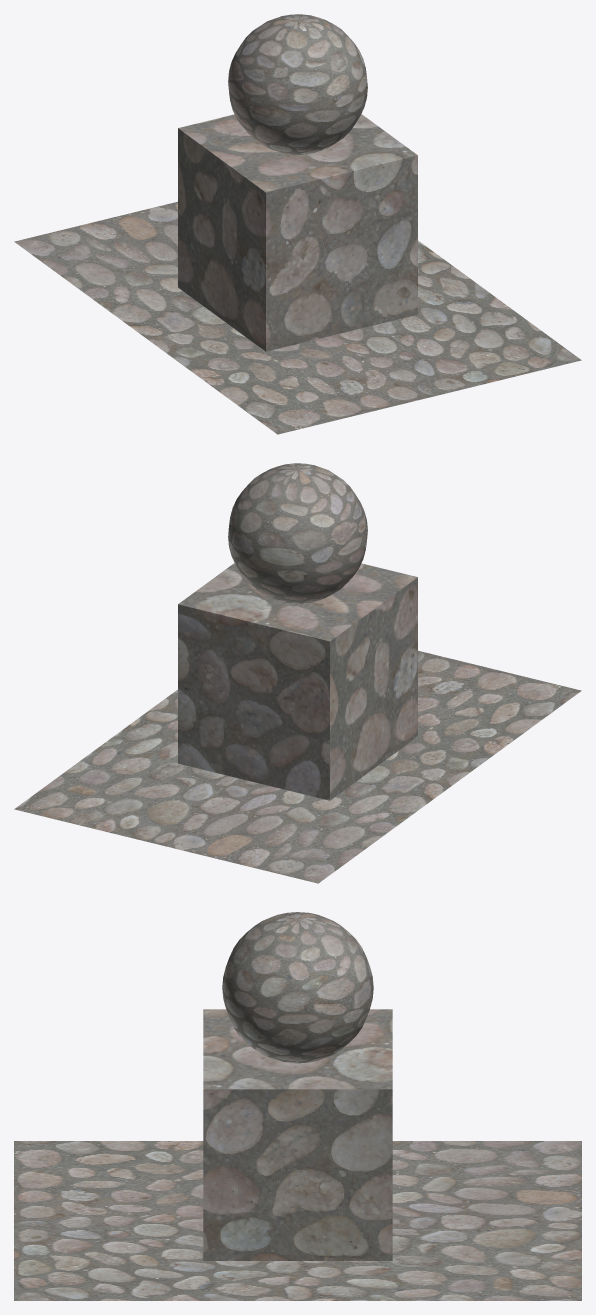
File: Ghost_House(Place_Holder).fbx
3 views of the same model, one above another, from view 1: azimuth 30°, elevation 25°; view 2: azimuth 150°, elevation 25°; view 3: azimuth 270°, elevation 25° (orthographic). The views are drawn at different scales.
Parts seen in each view (by area): view 1: polySurface45; view 2: polySurface45; view 3: polySurface45.
Part boxes in pixels (x1,y1,x2,y2): polySurface45: (14, 14, 581, 434); polySurface45: (14, 463, 581, 883); polySurface45: (14, 912, 581, 1300).
Bounding box in the file's own units: 200 × 176 × 300.
Materials: 1 (1 with a texture image).
